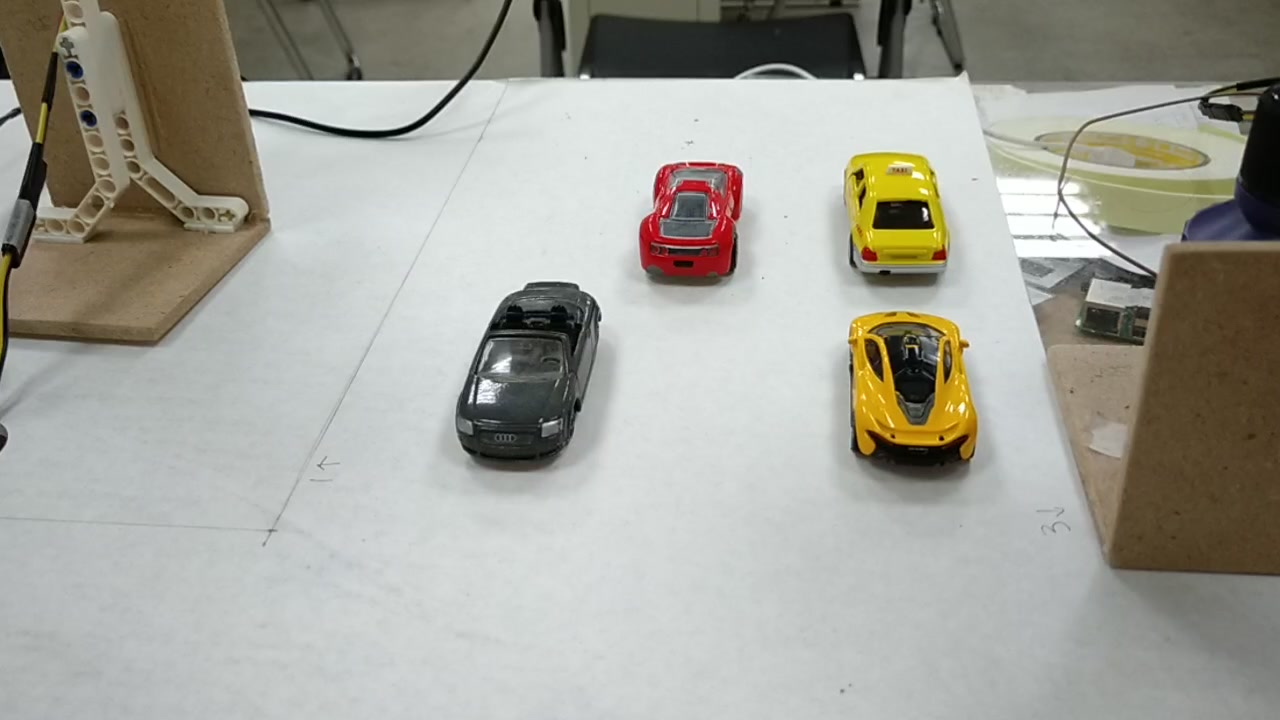car: (453, 290, 603, 454), (847, 315, 983, 461), (639, 149, 752, 294), (845, 147, 948, 286)
